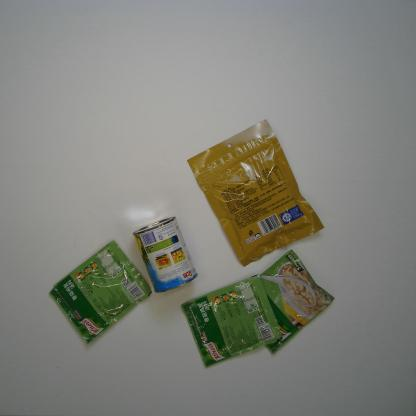Canned Food: (132, 216, 198, 294)
Dried Fruit: (186, 119, 325, 267)
Seasoner: (49, 240, 154, 345), (181, 273, 283, 369), (252, 249, 336, 354)
